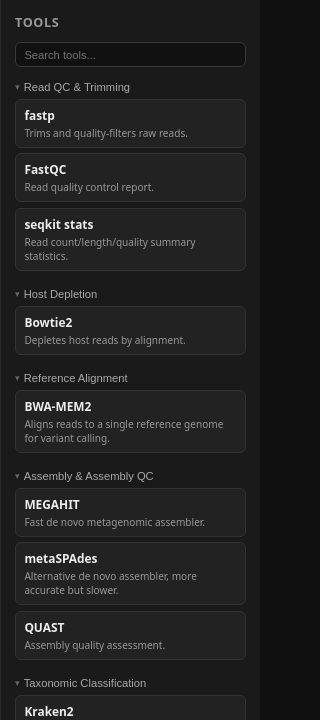
Test case: NodePalette › typing in the search box filters to only matching tools, and clears back to the full list
The width and height of the screenshot is (320, 720).
Step 1. Type "kraken" into the search field with placeholder "Search tools..." → (130,55), box x1=15 y1=42 x2=246 y2=67
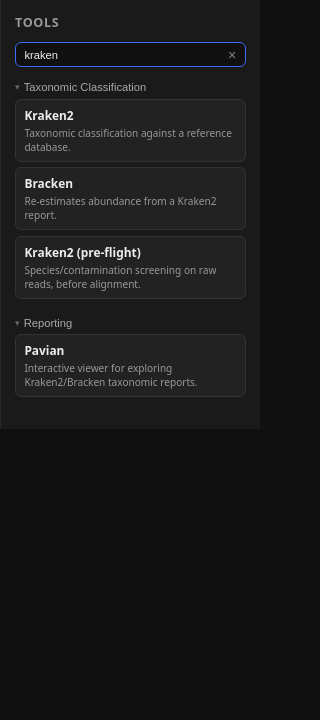
Check: the text "Kraken2" is shown, box x1=24 y1=107 x2=74 y2=123
Check: the button "fastp" is gone
Check: the button "Read QC & Trimming" is gone
Step 2. Click the button named "Clear search" → (232,55), box x1=224 y1=46 x2=240 y2=63
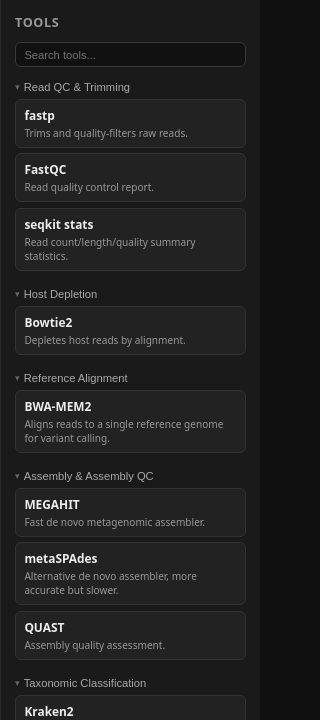
Check: the text "fastp" is shown, box x1=24 y1=107 x2=55 y2=123
